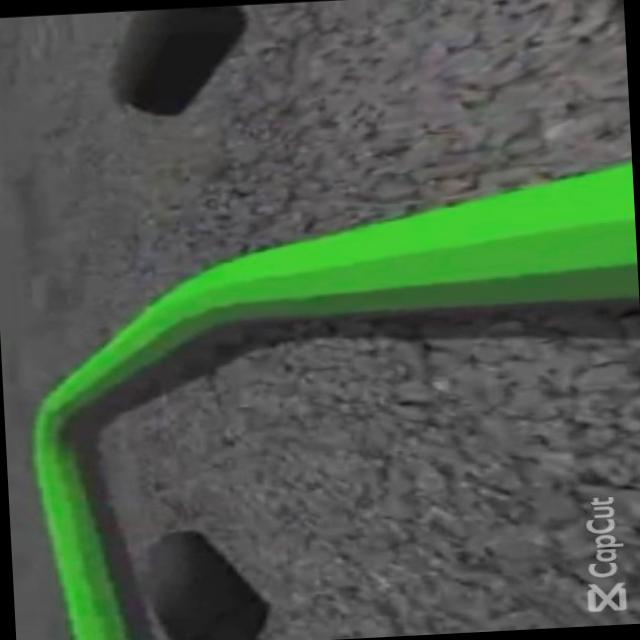gas: (92, 156, 640, 374)
